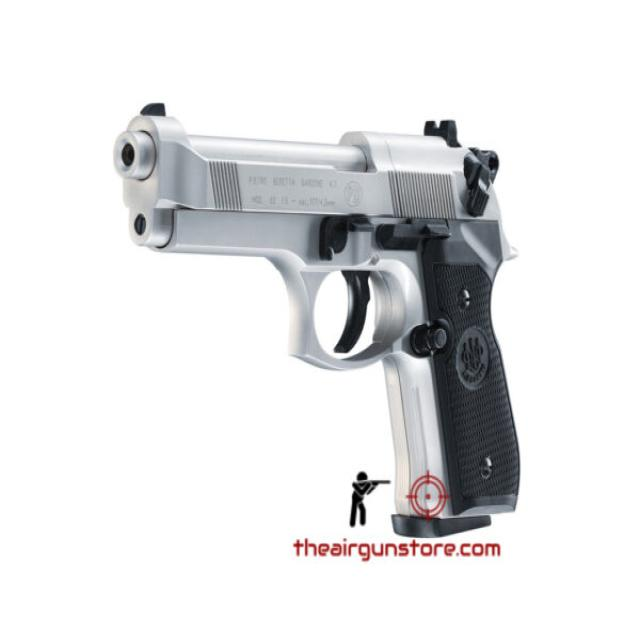Gun: (89, 51, 546, 578)
